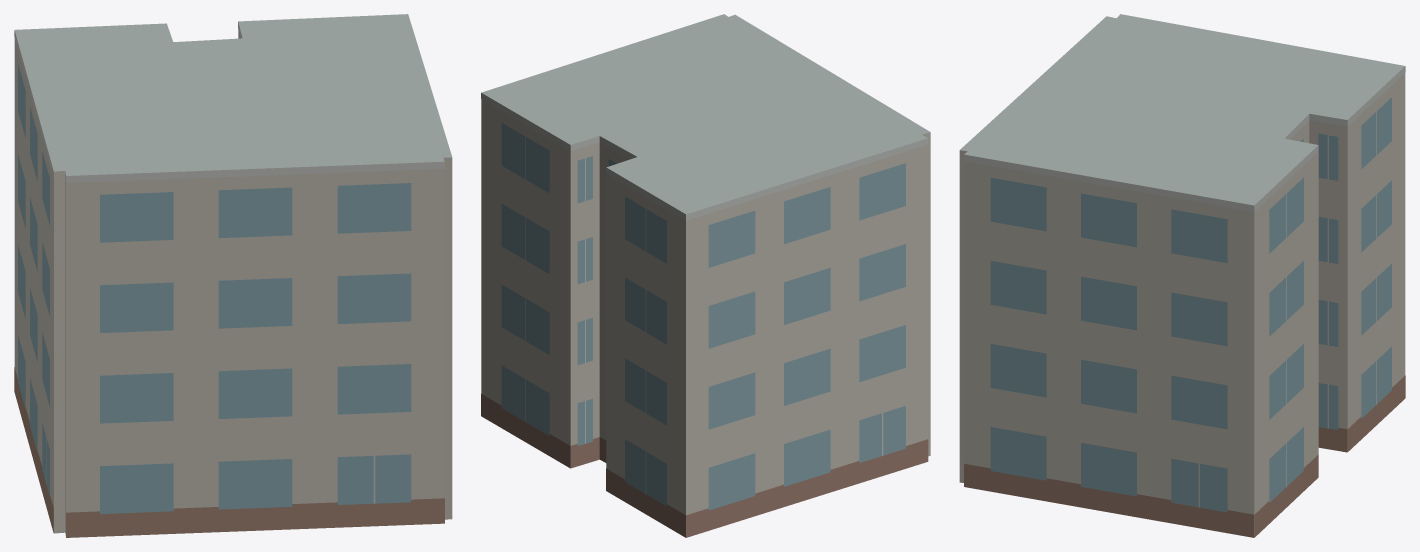
The model's file is survey-upis-32964280.glb.
The picture shows the model from 3 angles, left to right: view 1: azimuth 30°, elevation 25°; view 2: azimuth 150°, elevation 25°; view 3: azimuth 270°, elevation 25°; orthographic projection. The views are drawn at different scales.
Parts seen in each view (by area): view 1: survey-upis-32964280.tmp; view 2: survey-upis-32964280.tmp; view 3: survey-upis-32964280.tmp.
Part boxes in pixels (box(x1,y1,x2,y2)): survey-upis-32964280.tmp: box(14, 14, 452, 537); survey-upis-32964280.tmp: box(481, 14, 930, 537); survey-upis-32964280.tmp: box(959, 14, 1405, 537).
Size of the model in its own units: 15.33 by 12.4 by 15.09.
